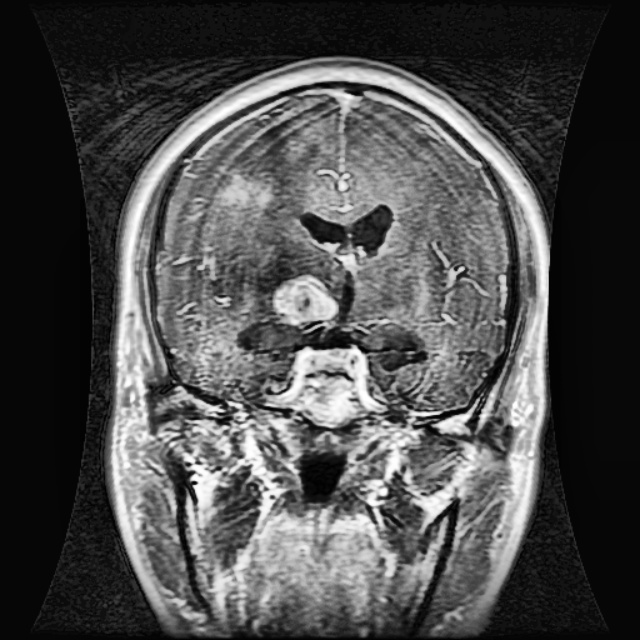Meningioma: (267, 272, 335, 330)
